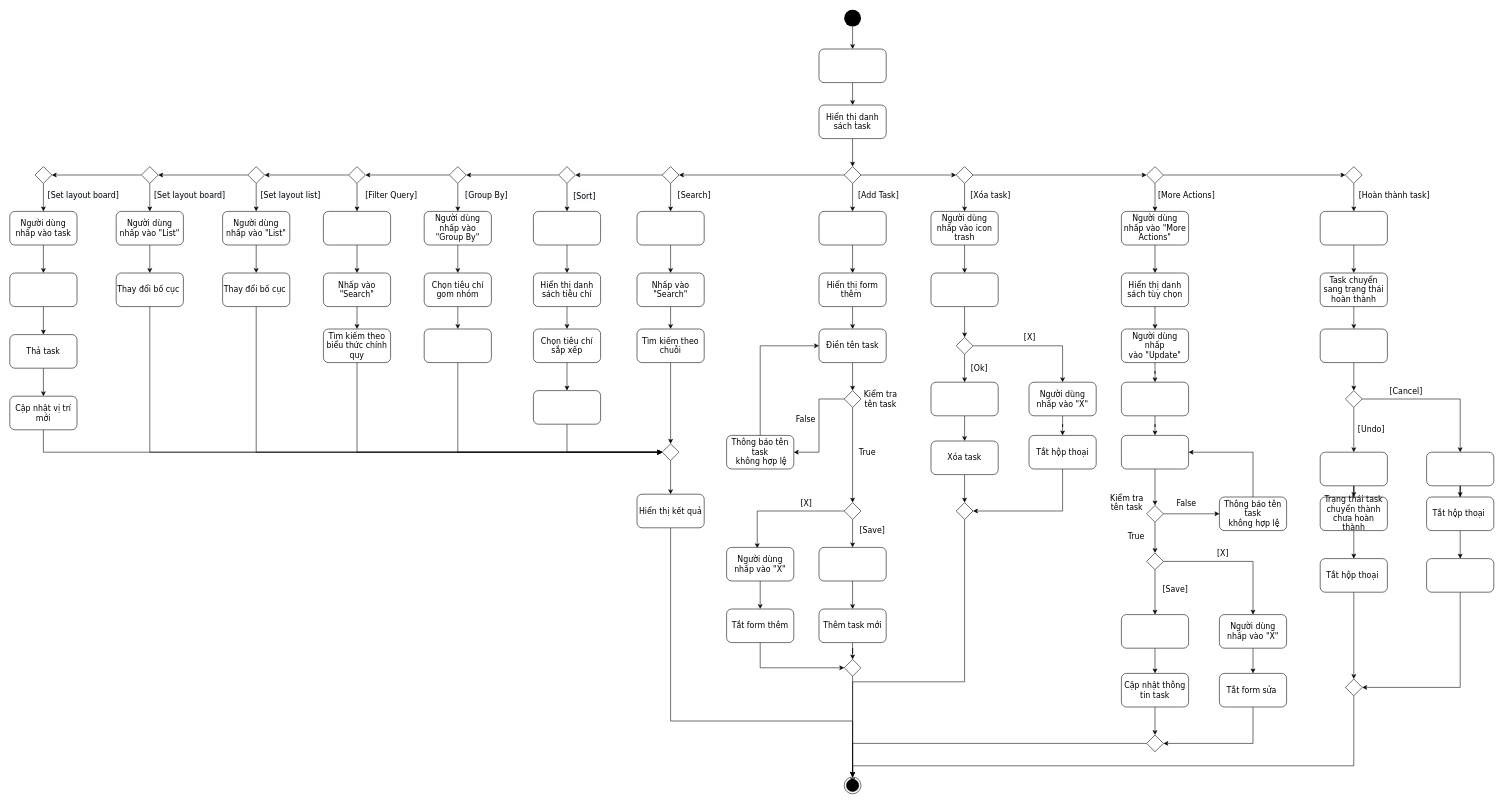
This 1504x804 diagram has some shape labels left out. The centre of each missing label's shape, as x and y in pixels:
Cập nhật trạng thái task: the point at 1460,575
Di chuyển đến vị trí cần: the point at 43,289
Gom nhóm theo tiêu chí: the point at 457,345
Hiển thị form sửa: the point at 1155,399
Hiển thị hộp thoại confirm: the point at 964,289
Người dùng nhấp "Save": the point at 852,564
Người dùng nhấp vào "Add Task": the point at 852,228
Người dùng nhấp vào "Cancel": the point at 1460,469
Người dùng nhấp vào "Ok": the point at 964,399
Người dùng nhấp vào "Save": the point at 1155,631
Người dùng nhấp vào "Sort": the point at 567,228
Người dùng nhấp vào "Undo": the point at 1353,469
Người dùng nhấp vào hoàn thành task: the point at 1353,228
Nhấp vào section: the point at 852,65
Nhập biểu thức chính quy: the point at 357,228
Nhập chuỗi tìm kiếm: the point at 670,228
Sắp xếp theo tiêu chí chọn: the point at 567,407
Xuất hiện hộp thoại Undo: the point at 1353,345
Điền thông tin: the point at 1155,452
